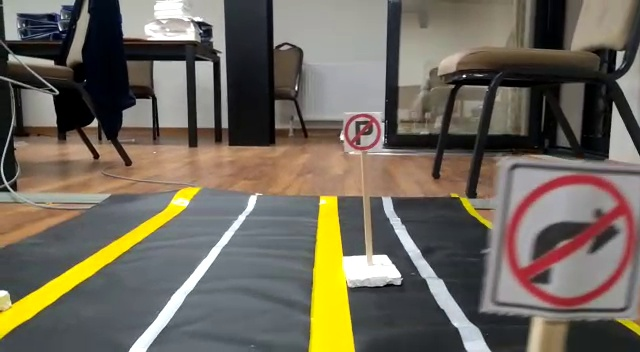park_yapilmaz: (344, 111, 383, 153)
saga_donulmez: (503, 164, 635, 314)
